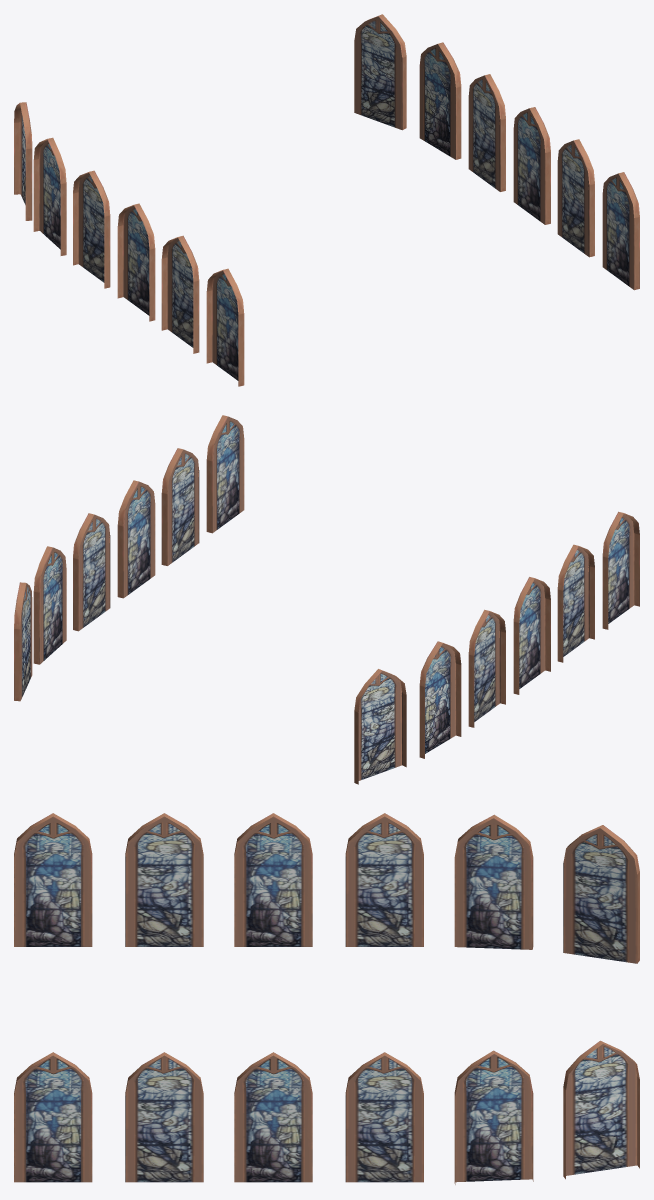
Rendered from Recruit_Widndows_01.FBX.
The picture shows the model from 3 angles, top to bottom: view 1: azimuth 30°, elevation 25°; view 2: azimuth 150°, elevation 25°; view 3: azimuth 270°, elevation 25°; orthographic projection. The views are drawn at different scales.
Parts seen in each view (by area): view 1: Recruit_Widndows_01; view 2: Recruit_Widndows_01; view 3: Recruit_Widndows_01.
Part boxes in pixels (box(x1,y1,x2,y2)): Recruit_Widndows_01: box(14, 14, 639, 386); Recruit_Widndows_01: box(14, 415, 639, 784); Recruit_Widndows_01: box(14, 813, 639, 1184).
Size of the model in its own units: 25.89 by 6.49 by 28.24.
